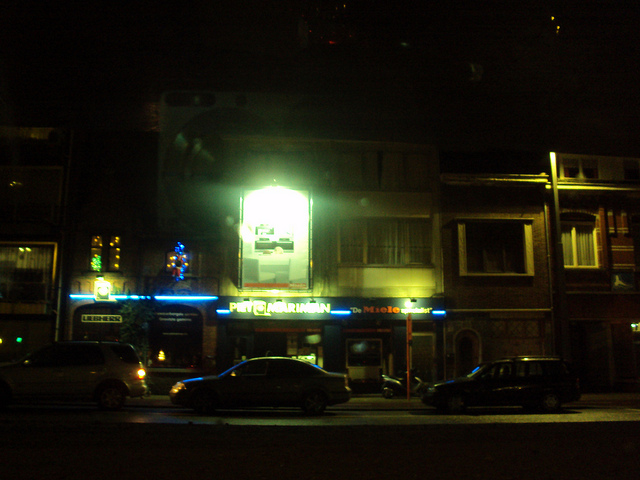car: (168, 354, 356, 422)
